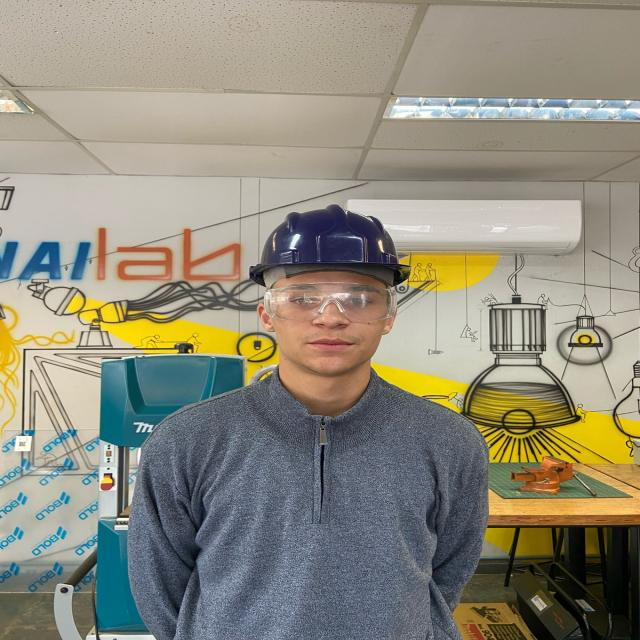CAPACETE: (246, 201, 414, 290)
OCULOS: (264, 282, 396, 323)
